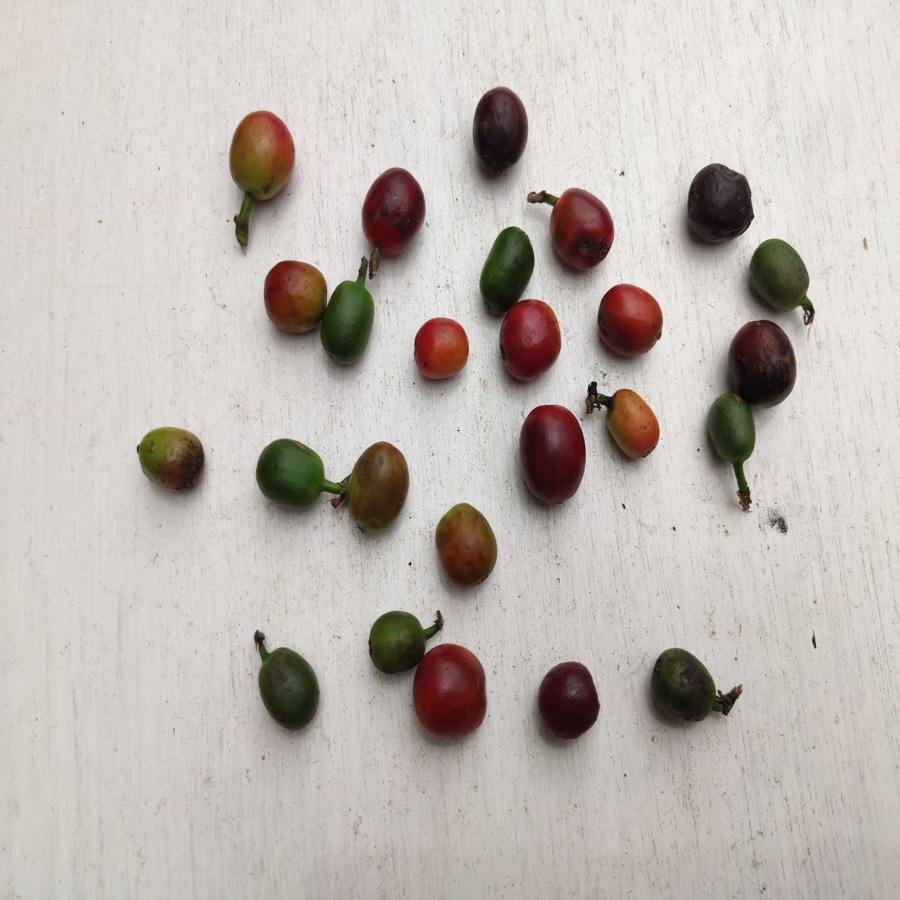Inmaduro: (254, 432, 332, 519), (251, 647, 322, 732), (646, 645, 717, 729), (748, 237, 813, 315), (476, 223, 537, 300), (362, 603, 425, 674), (324, 278, 373, 366), (706, 395, 755, 464)
Maduro: (413, 644, 487, 737), (547, 190, 614, 270), (597, 282, 666, 358), (500, 300, 564, 381)
Pinton: (432, 497, 502, 597), (228, 108, 299, 206), (343, 443, 408, 538), (132, 419, 207, 495), (602, 385, 664, 475), (259, 258, 324, 334), (414, 314, 473, 388)
Sobremaduro: (515, 402, 589, 515), (359, 164, 428, 262), (727, 314, 799, 404), (467, 84, 535, 174), (688, 158, 755, 247), (536, 659, 602, 747)
